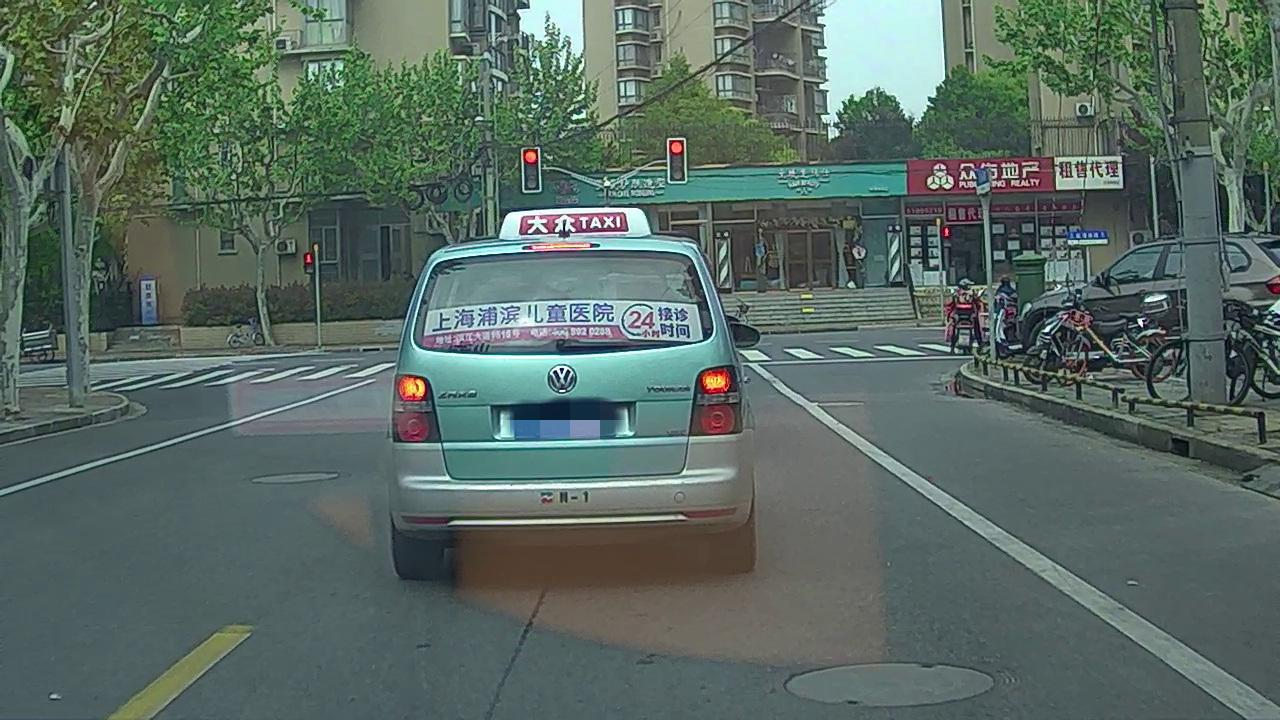traffic_light: (522, 148, 541, 189), (668, 141, 686, 181)
